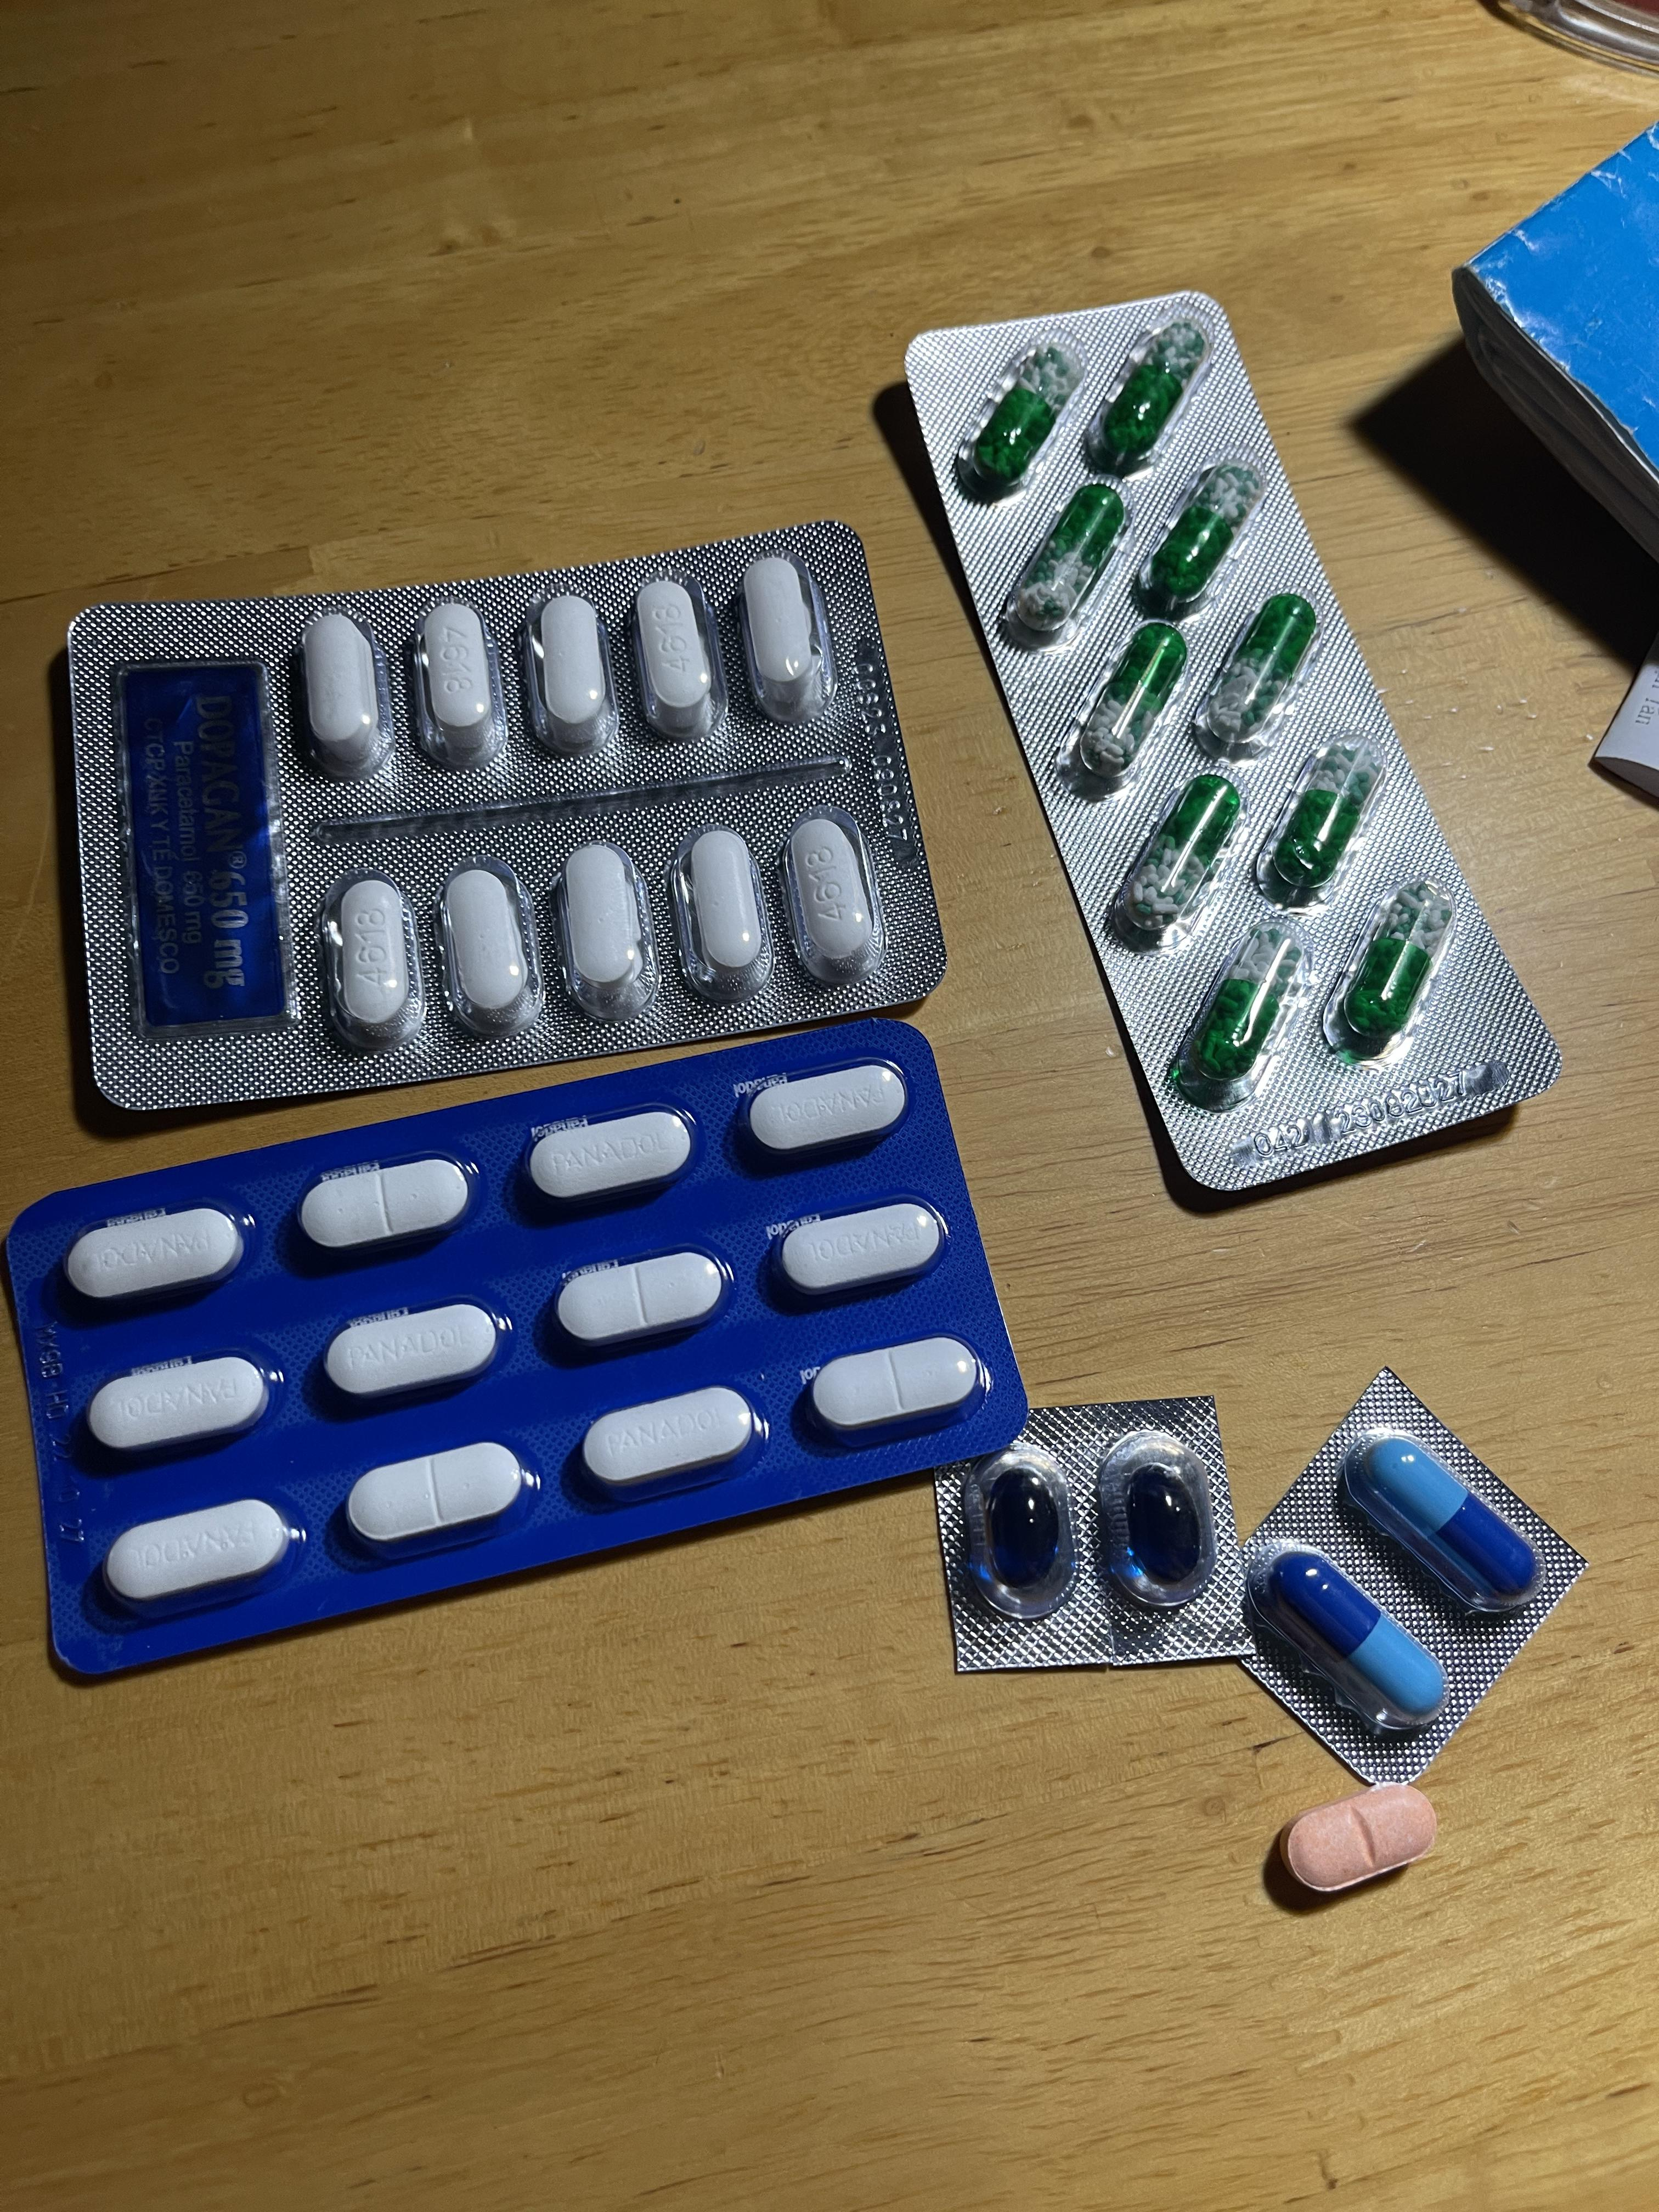Lincomyxin_500mg: (1126, 1463, 1204, 1587), (988, 1465, 1060, 1587)
Loratadine_10mg: (1281, 1784, 1439, 1897)
Paracetamol_350mg: (105, 1496, 295, 1609), (582, 1385, 762, 1496), (87, 1352, 272, 1456), (349, 1440, 525, 1548), (64, 1204, 246, 1308), (807, 1334, 979, 1440), (322, 1299, 500, 1402), (774, 1200, 945, 1299), (559, 1251, 727, 1350), (301, 1157, 471, 1254), (528, 1109, 695, 1207), (744, 1062, 908, 1160)
Paracetamol_500mg: (322, 874, 429, 1050), (439, 860, 544, 1036), (784, 817, 882, 989), (631, 577, 727, 738), (563, 843, 650, 1019), (415, 603, 505, 766), (742, 556, 826, 718), (301, 615, 385, 773), (690, 829, 765, 979), (538, 594, 612, 744)
Paracetamol_650mg: (1164, 914, 1307, 1111), (1324, 874, 1459, 1061), (1112, 770, 1239, 942), (1255, 733, 1384, 902), (1138, 453, 1265, 617), (1199, 592, 1317, 761), (1004, 482, 1126, 637), (1093, 319, 1209, 475), (1077, 620, 1190, 780), (967, 341, 1079, 493)
pill: (1345, 1430, 1544, 1602), (1263, 1547, 1443, 1723)
